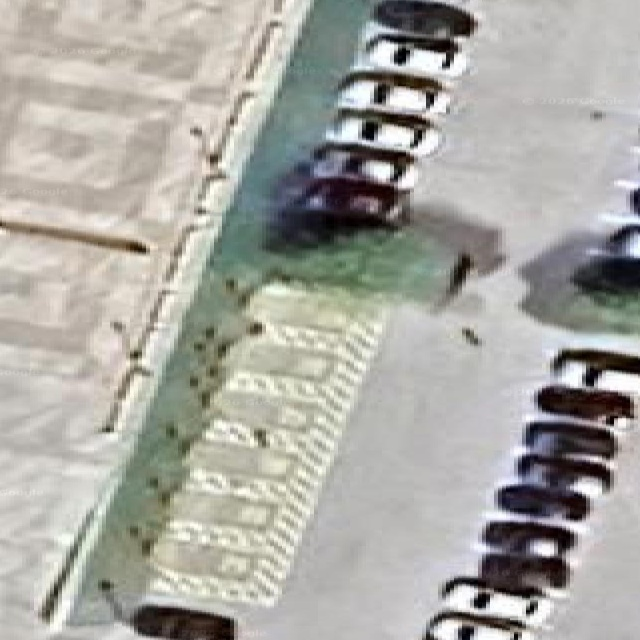car: (283, 175, 407, 224), (442, 577, 551, 627), (337, 68, 449, 116), (324, 110, 440, 156), (312, 143, 415, 192), (572, 221, 639, 292), (364, 33, 467, 77), (552, 348, 639, 395), (129, 604, 235, 639), (373, 0, 475, 36), (424, 613, 532, 639)
